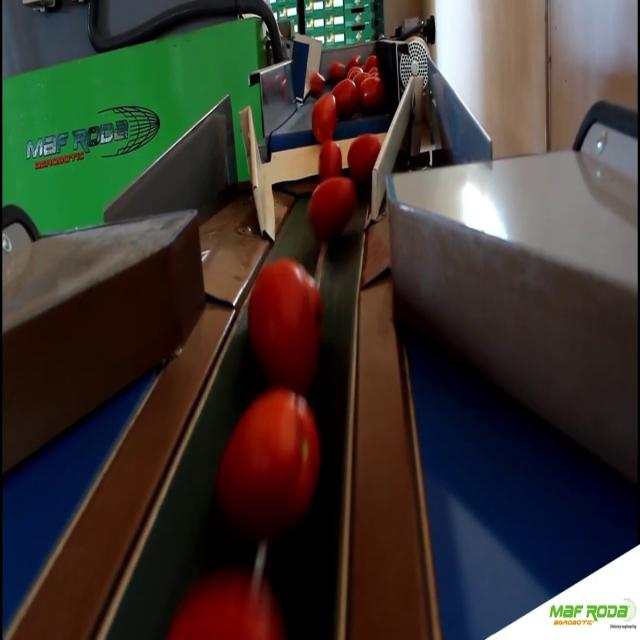Tomato: (219, 384, 323, 534), (245, 257, 332, 398), (168, 579, 277, 640), (302, 178, 362, 248), (346, 134, 386, 186), (309, 93, 342, 142), (316, 141, 346, 183), (330, 75, 360, 113), (358, 78, 384, 112), (359, 55, 379, 75), (307, 74, 325, 94), (329, 59, 345, 79)
